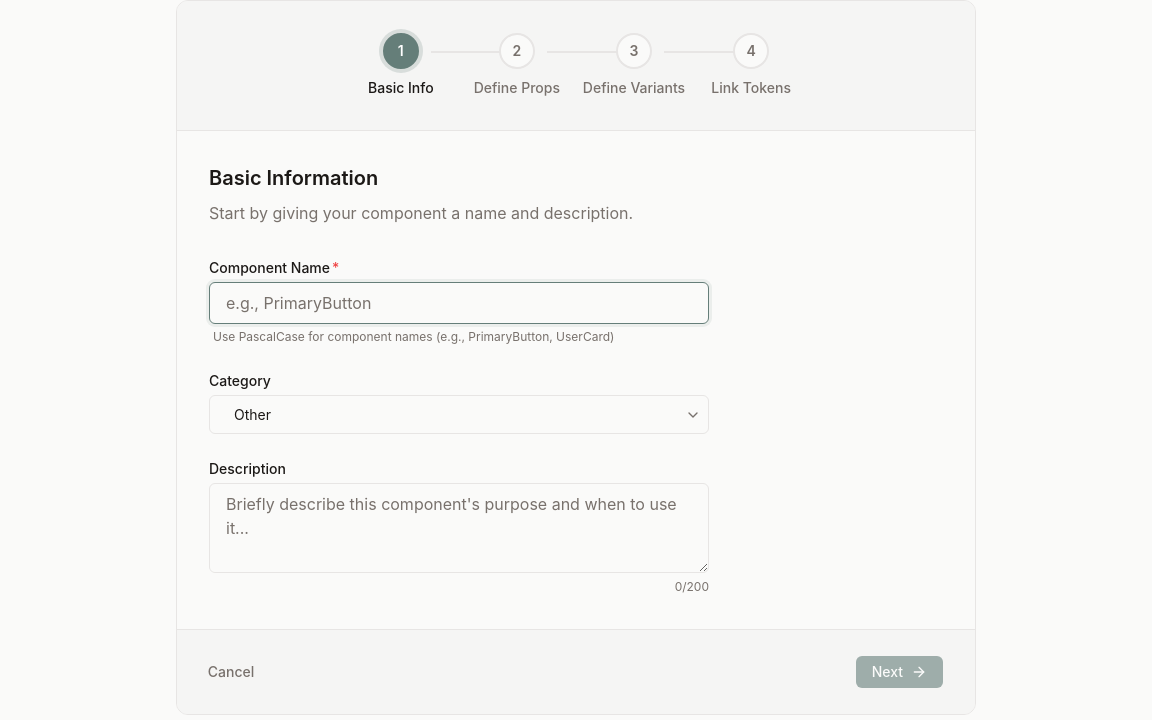
Test case: Gate 6: Creation Wizards Complete › 4. Step 3 - Variants › Next button works to advance to Tokens step
Type "TestButton" into the field labelled "Component Name*" at [459, 303], box top-left (209, 282), bottom-right (709, 324)
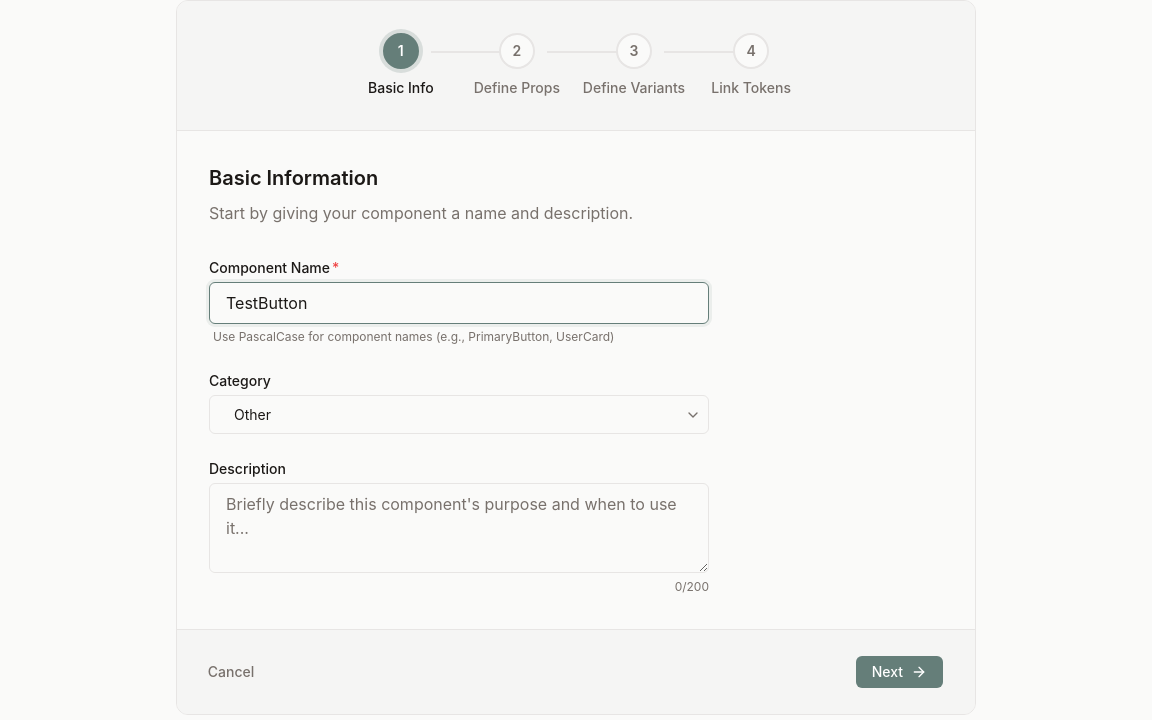
Click the button "Next" at [899, 672], box top-left (856, 656), bottom-right (943, 688)
(page scrolled)
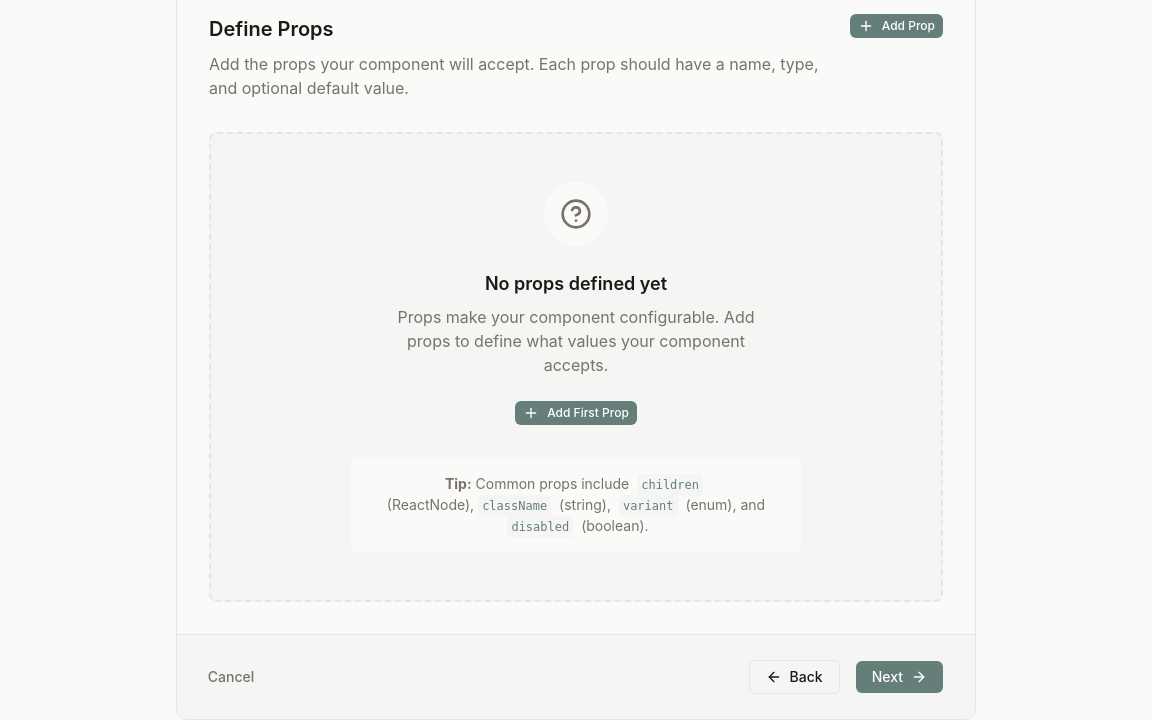
Check: the heading "Define Props" is shown, box top-left (209, 17), bottom-right (334, 41)
Click the button "Next" at [899, 677], box top-left (856, 661), bottom-right (943, 693)
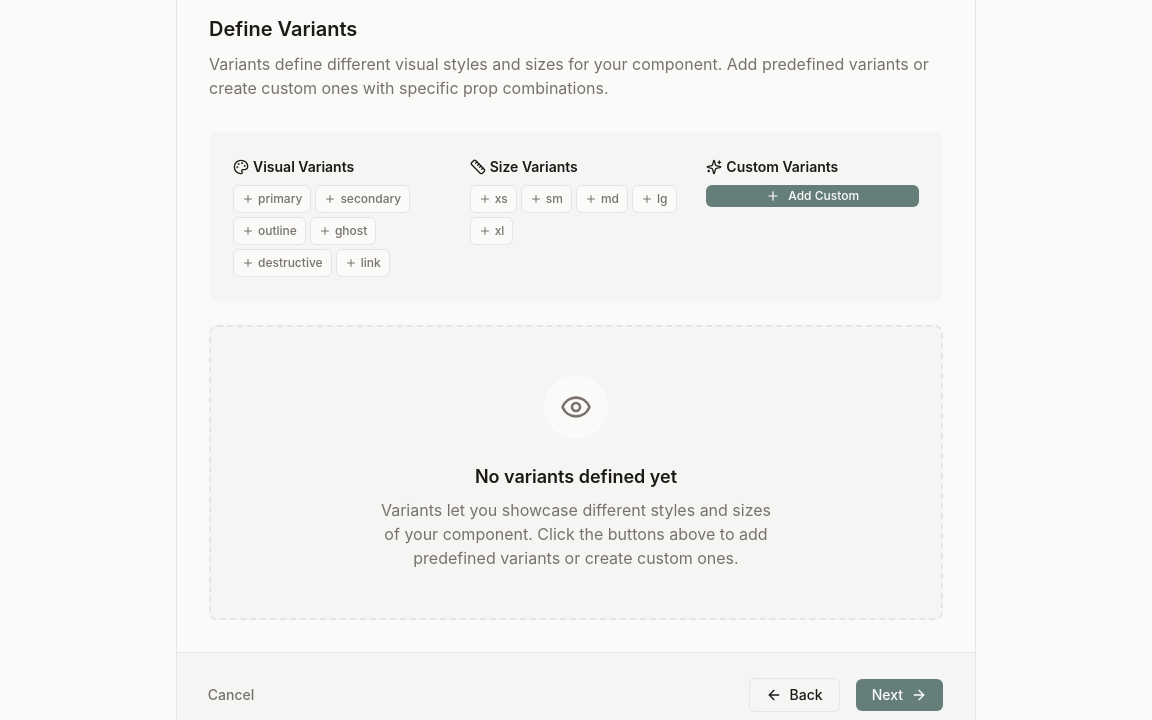
Check: the heading "Define Variants" is shown, box top-left (209, 17), bottom-right (357, 41)
Click the button "Next" at [899, 695], box top-left (856, 679), bottom-right (943, 711)
(page scrolled)
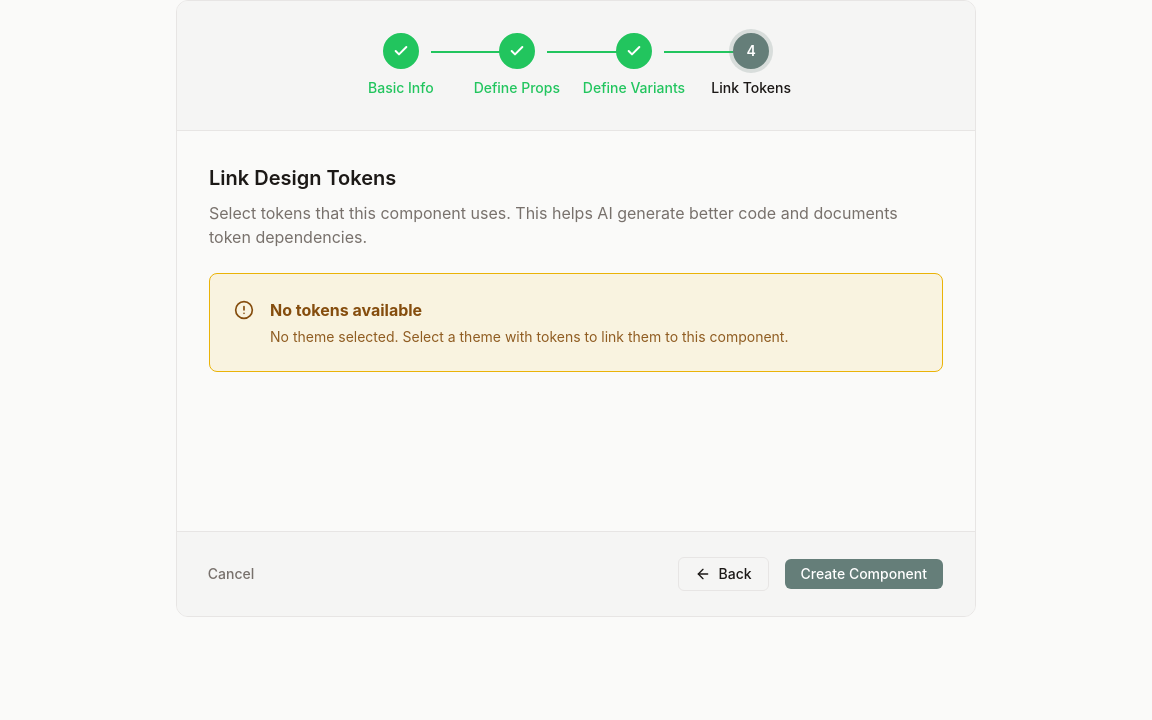
Check: the heading with class "token-linking-step-title" reads "Link Design Tokens", box top-left (209, 166), bottom-right (396, 190)
